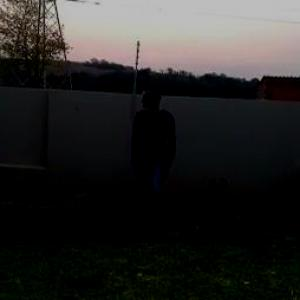follow: (122, 74, 177, 267)
